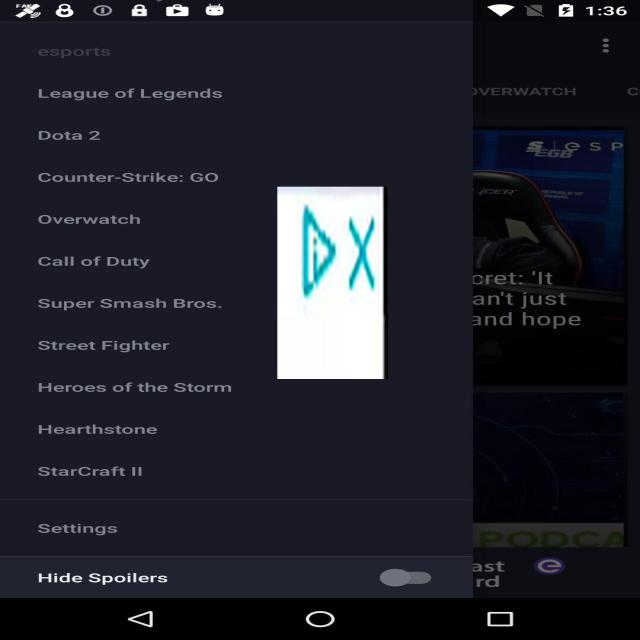sneaking: (277, 187, 388, 379)
